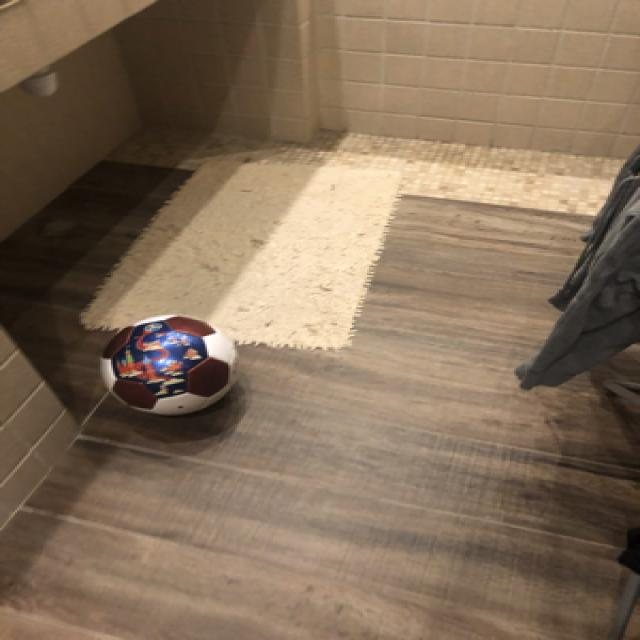soccer_ball: (96, 310, 239, 416)
